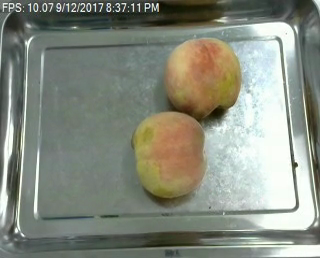Peach: (132, 110, 206, 198), (164, 37, 242, 118)
